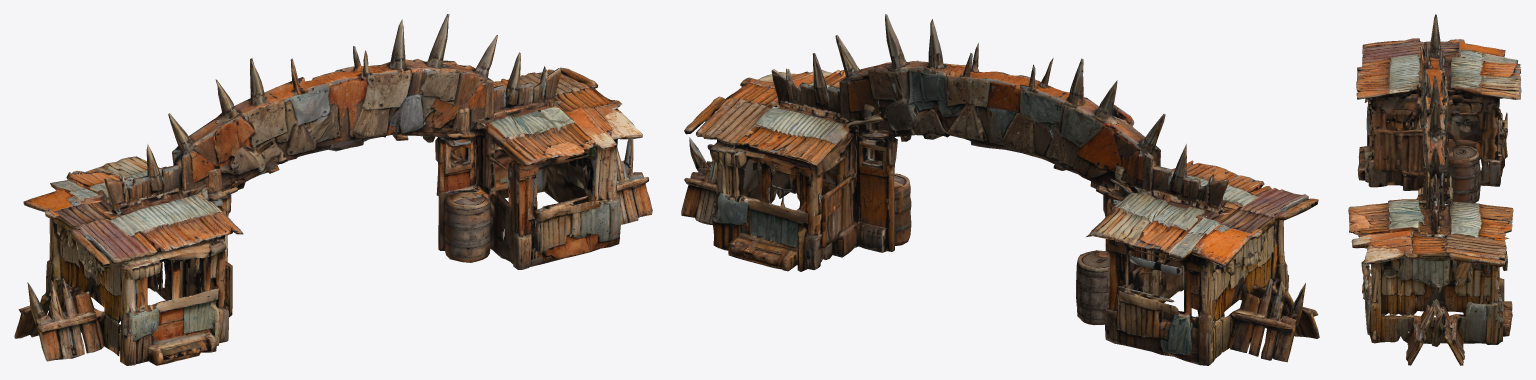
Rendered from Settle_Gate.fbx.
3 renders of one model, left to right at view 1: azimuth 30°, elevation 25°; view 2: azimuth 150°, elevation 25°; view 3: azimuth 270°, elevation 25°, orthographic. The views are drawn at different scales.
Visible parts, largest first — view 1: texture_mapping; view 2: texture_mapping; view 3: texture_mapping.
Part boxes in pixels (x1,y1,x2,y2): texture_mapping: (14, 14, 652, 365); texture_mapping: (681, 14, 1319, 365); texture_mapping: (1348, 14, 1521, 365).
Bounding box in the file's own units: 0.9812 × 0.2943 × 0.3752.
1 material, 1 textured.
